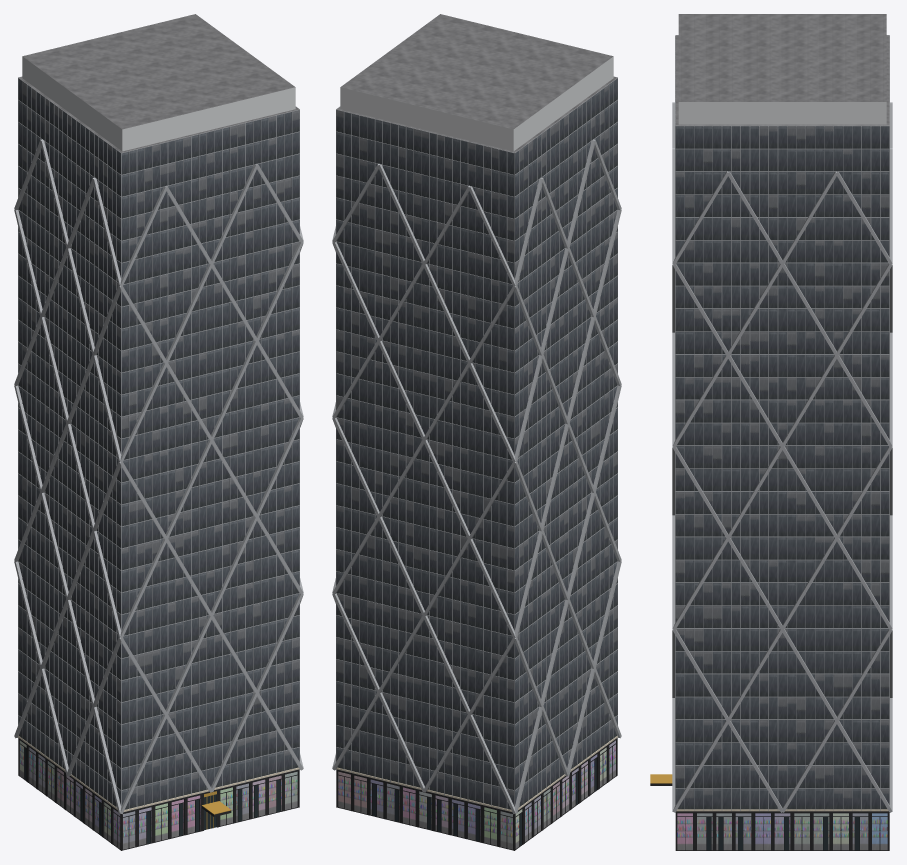
File: hd27_diagrid_office.gltf
3 views of the same model, side by side, from view 1: azimuth 30°, elevation 25°; view 2: azimuth 150°, elevation 25°; view 3: azimuth 270°, elevation 25° (orthographic). The views are drawn at different scales.
Parts seen in each view (by area): view 1: hd27_diagrid_office_LOD0; view 2: hd27_diagrid_office_LOD0; view 3: hd27_diagrid_office_LOD0.
Part boxes in pixels (x1,y1,x2,y2): hd27_diagrid_office_LOD0: [14, 14, 303, 850]; hd27_diagrid_office_LOD0: [332, 14, 621, 850]; hd27_diagrid_office_LOD0: [650, 14, 892, 850].
Size of what is drawn, in the model's own units: 35 by 131 by 38.52.
Materials: 10 (5 with a texture image).
